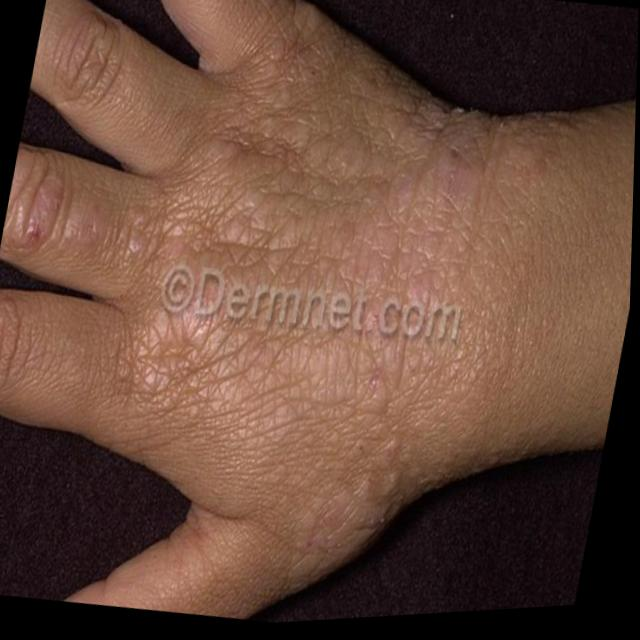liquenificacion 1: (123, 39, 495, 491)
